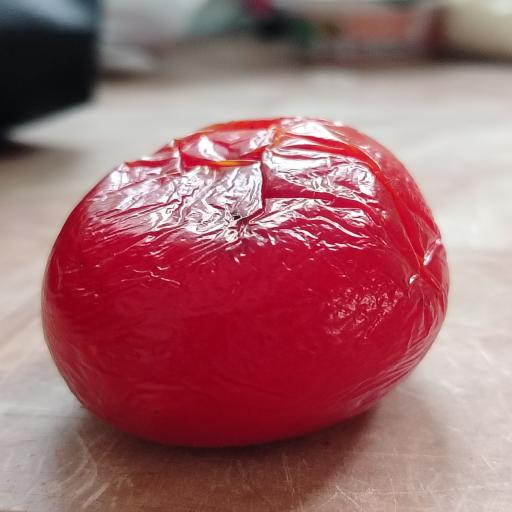spoiled: (42, 118, 448, 446), (44, 118, 447, 446)
